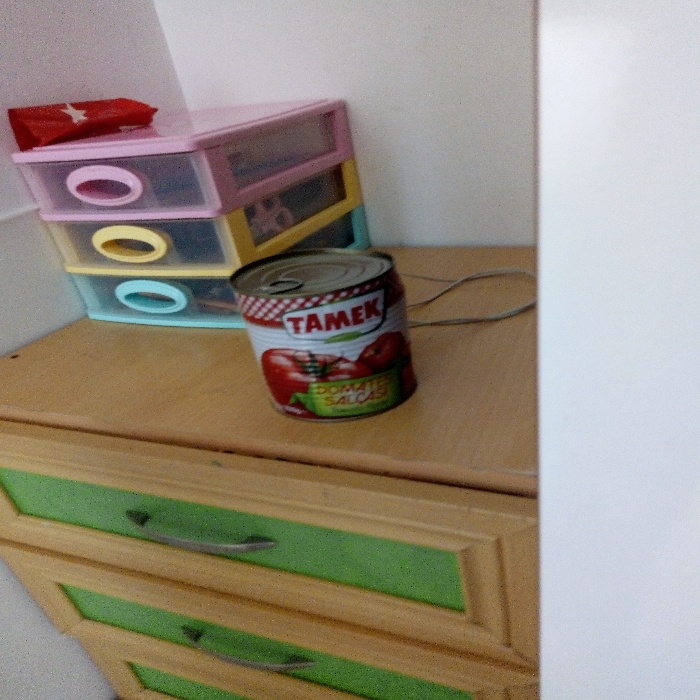salca: (222, 227, 422, 444)
